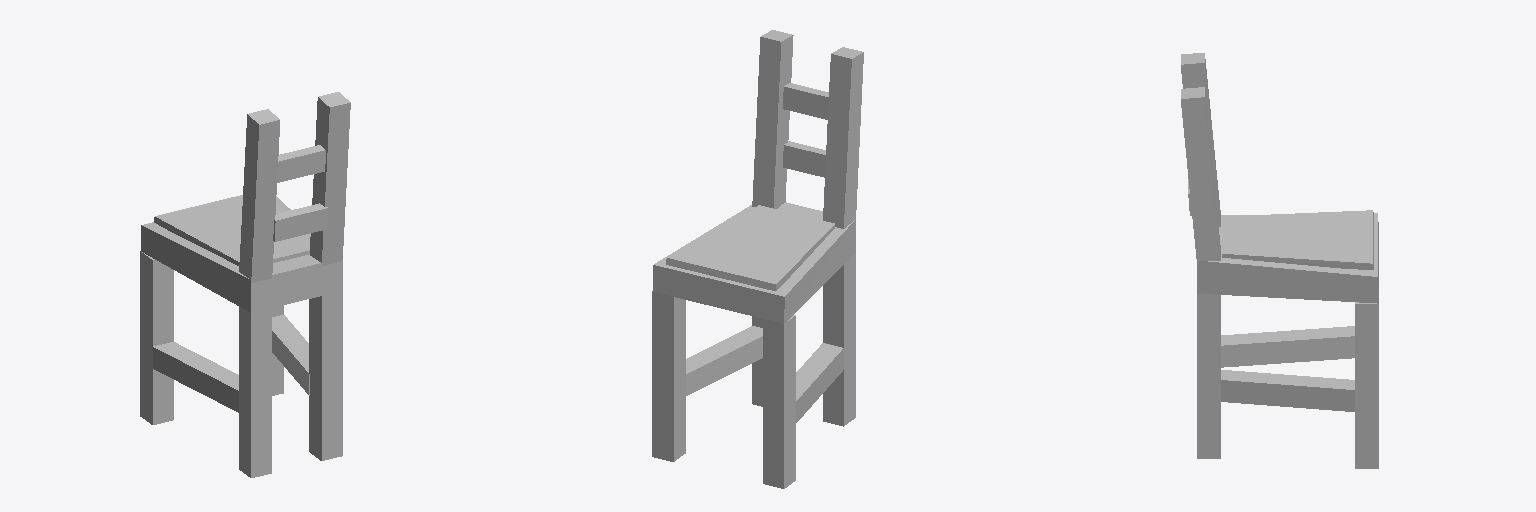
File: Chair001.obj
3 views of the same model, side by side, from view 1: azimuth 30°, elevation 25°; view 2: azimuth 150°, elevation 25°; view 3: azimuth 270°, elevation 25° (orthographic).
Bounding box in the file's own units: 38.1 × 100 × 49.81.